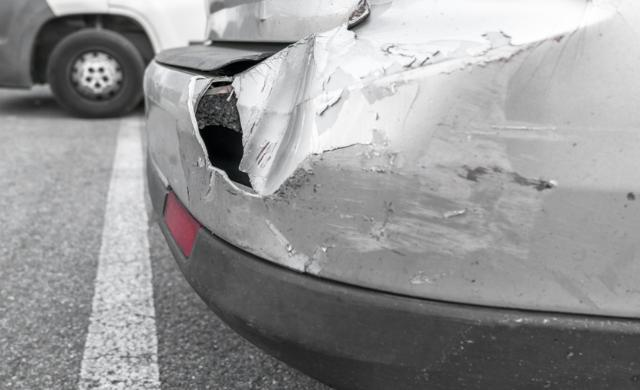Bumper: (155, 31, 640, 290)
